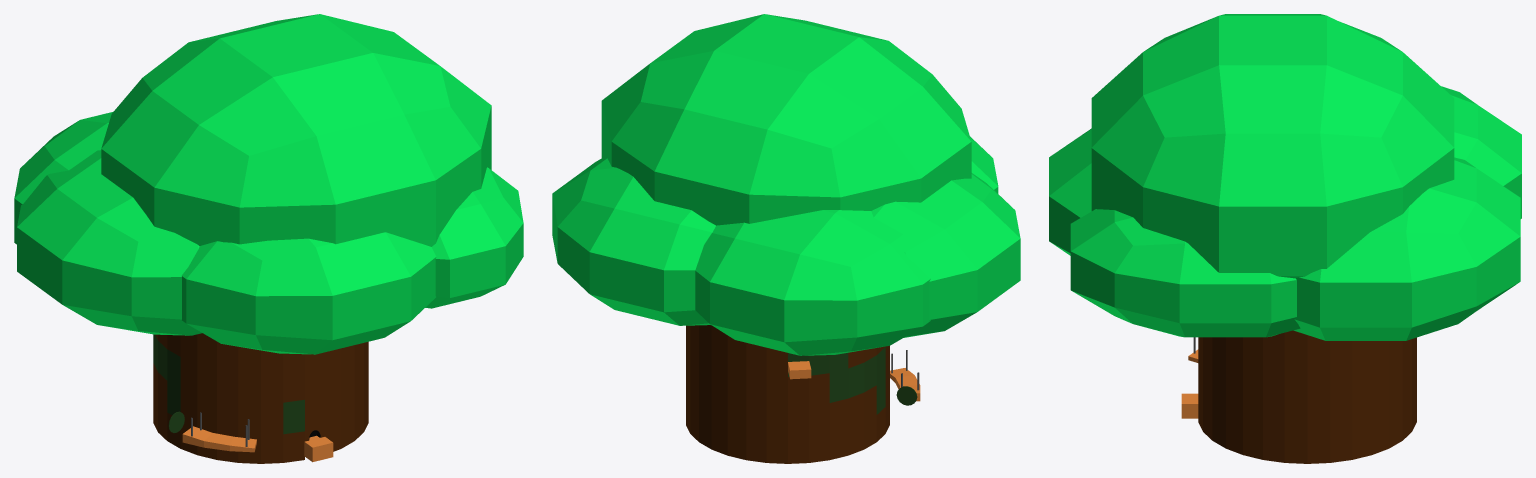
Rendered from Tree.fbx.
3 renders of one model, left to right at view 1: azimuth 30°, elevation 25°; view 2: azimuth 150°, elevation 25°; view 3: azimuth 270°, elevation 25°, orthographic. The views are drawn at different scales.
Visible parts, largest first — view 1: Leaves, OutsideTree, VinesOutside, OutsideTreerRamp, VinesOutside.001, OutsideTreeInitialPlatform; view 2: Leaves, OutsideTree, VinesOutside, OutsideTreerRamp; view 3: Leaves, OutsideTree.
Boxes of the visible parts, box(x1,y1,x2,y2) form: Leaves: box(14, 14, 523, 354); OutsideTree: box(153, 333, 368, 463); VinesOutside: box(153, 334, 180, 415); OutsideTreerRamp: box(182, 426, 256, 452); VinesOutside.001: box(283, 399, 304, 434); OutsideTreeInitialPlatform: box(304, 435, 333, 462); Leaves: box(552, 14, 1020, 355); OutsideTree: box(686, 325, 889, 463); VinesOutside: box(788, 347, 885, 414); OutsideTreerRamp: box(890, 368, 920, 401); Leaves: box(1049, 14, 1521, 340); OutsideTree: box(1198, 330, 1416, 463).
Size of the model in its own units: 23807 by 20646 by 22913.
